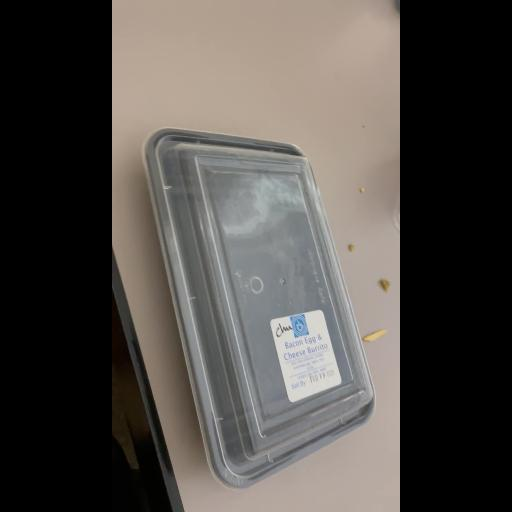rigid_plastic_container: (142, 129, 374, 481)
